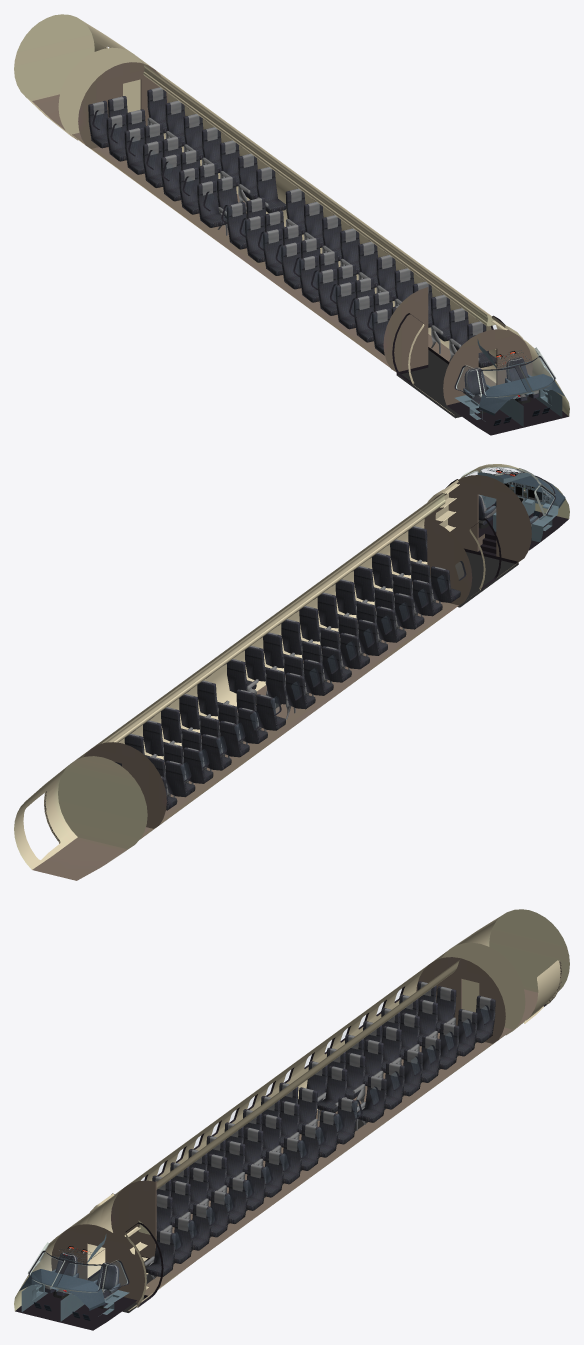
Rendered from interior.gltf.
The picture shows the model from 3 angles, top to bottom: view 1: azimuth 30°, elevation 25°; view 2: azimuth 150°, elevation 25°; view 3: azimuth 330°, elevation 25°; orthographic projection.
Visible parts, largest first — view 1: Interior; view 2: Interior; view 3: Interior.
Part boxes in pixels (x1,y1,x2,y2): Interior: (14,14,569,435); Interior: (14,464,569,880); Interior: (14,909,569,1330).
Bounding box in the file's own units: 2.38 × 2.09 × 21.
45 materials, 42 textured.
